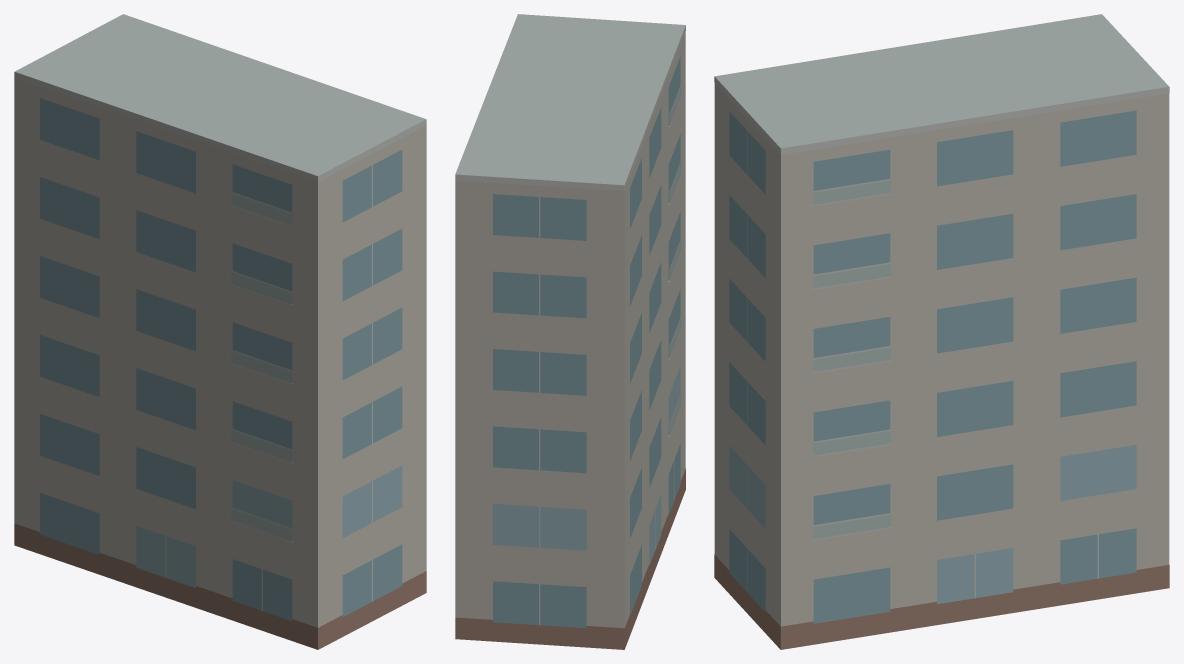
Rendered from survey-upis-32782177.glb.
3 views of the same model, side by side, from view 1: azimuth 30°, elevation 25°; view 2: azimuth 150°, elevation 25°; view 3: azimuth 270°, elevation 25° (orthographic). The views are drawn at different scales.
Parts seen in each view (by area): view 1: survey-upis-32782177.tmp; view 2: survey-upis-32782177.tmp; view 3: survey-upis-32782177.tmp.
Boxes of the visible parts, <box> form: survey-upis-32782177.tmp: <box>14,14,426,649</box>; survey-upis-32782177.tmp: <box>455,14,685,649</box>; survey-upis-32782177.tmp: <box>714,14,1169,649</box>.
Size of the model in its own units: 11.06 by 19.2 by 15.8.
